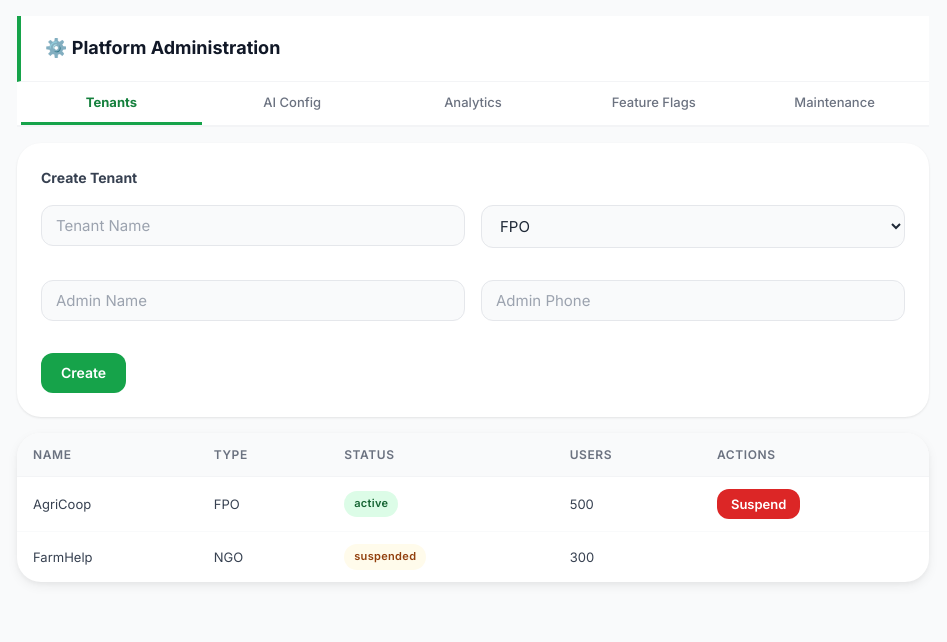
Test: PlatformAdminPage › displays maintenance scheduling
Click the button with test id "tab-maintenance": (835, 103) [744,82,925,125]
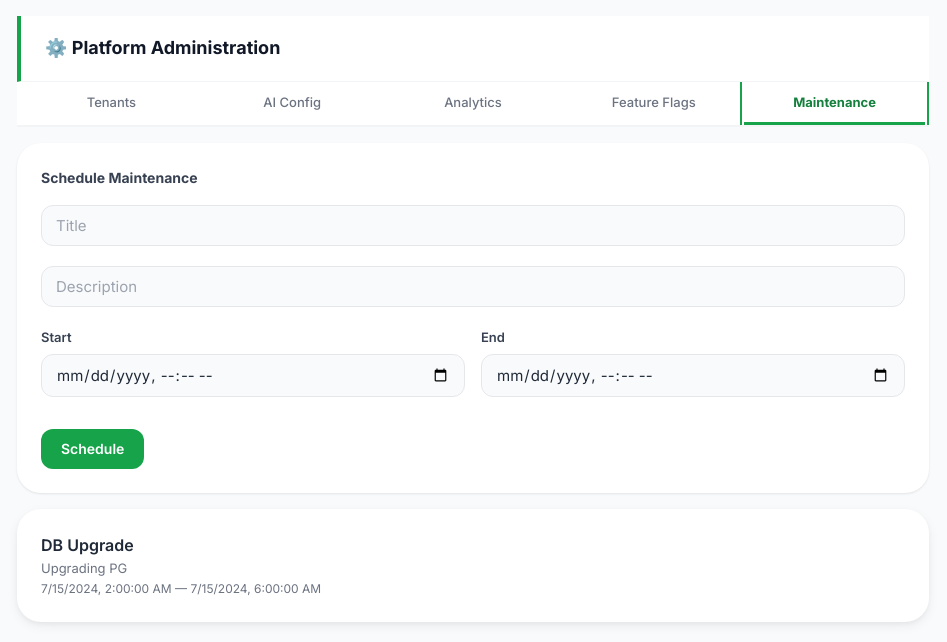
Result: the element with test id "maintenance-section" is shown
Result: the element with test id "maint-mw1" is shown at [17,509,929,622]
Result: the button with test id "schedule-maint-btn" is shown at [41,429,144,469]
